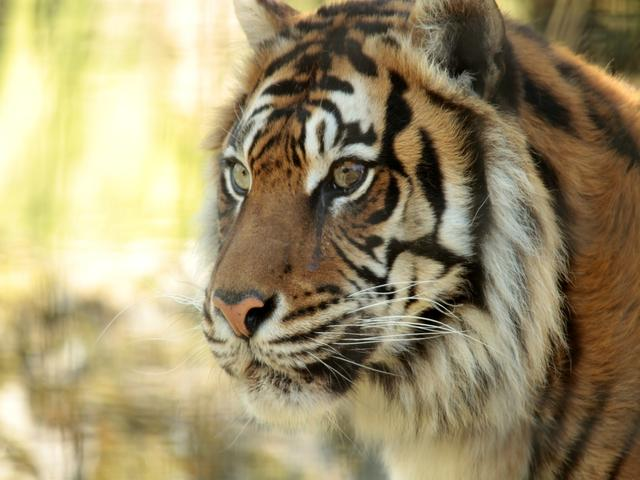tiger: (163, 8, 625, 433)
